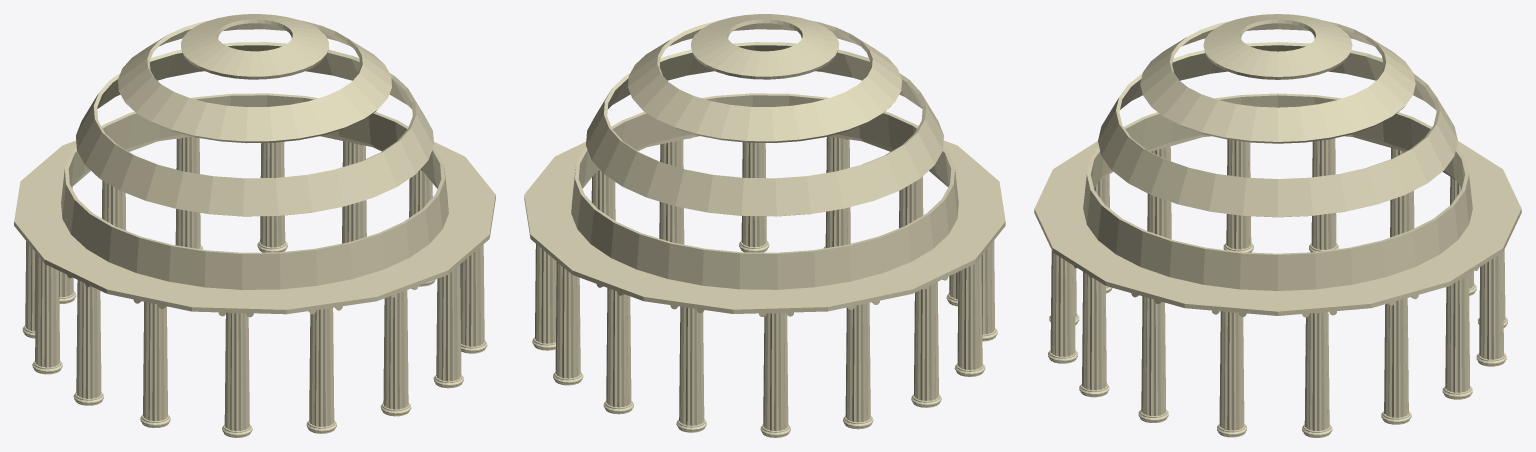
Rendered from temple.fbx.
3 renders of one model, left to right at view 1: azimuth 30°, elevation 25°; view 2: azimuth 150°, elevation 25°; view 3: azimuth 270°, elevation 25°, orthographic.
Parts seen in each view (by area): view 1: COLUMNS OUTER; view 2: COLUMNS OUTER; view 3: COLUMNS OUTER.
Part boxes in pixels (x1,y1,x2,y2): COLUMNS OUTER: [14, 14, 495, 437]; COLUMNS OUTER: [524, 14, 1005, 437]; COLUMNS OUTER: [1034, 14, 1521, 437].
Bounding box in the file's own units: 20000 × 13855 × 20000.
